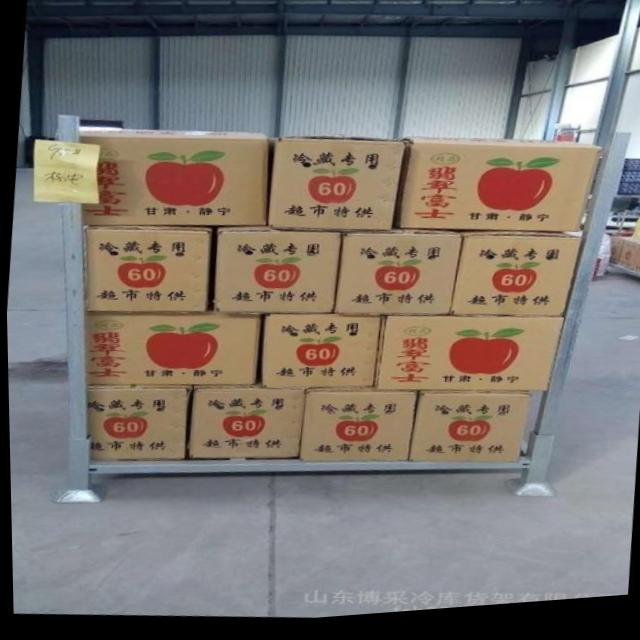box: (390, 143, 599, 241), (75, 129, 267, 231), (372, 321, 559, 398), (81, 313, 262, 392), (265, 141, 405, 236), (81, 225, 215, 316), (207, 229, 342, 319), (331, 234, 461, 323), (450, 238, 582, 323), (254, 318, 381, 393), (404, 395, 527, 470), (185, 390, 302, 465), (297, 393, 415, 465), (81, 386, 189, 462)
